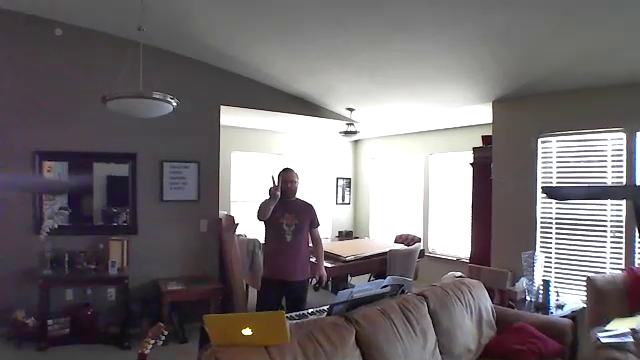peace: (262, 171, 288, 208)
